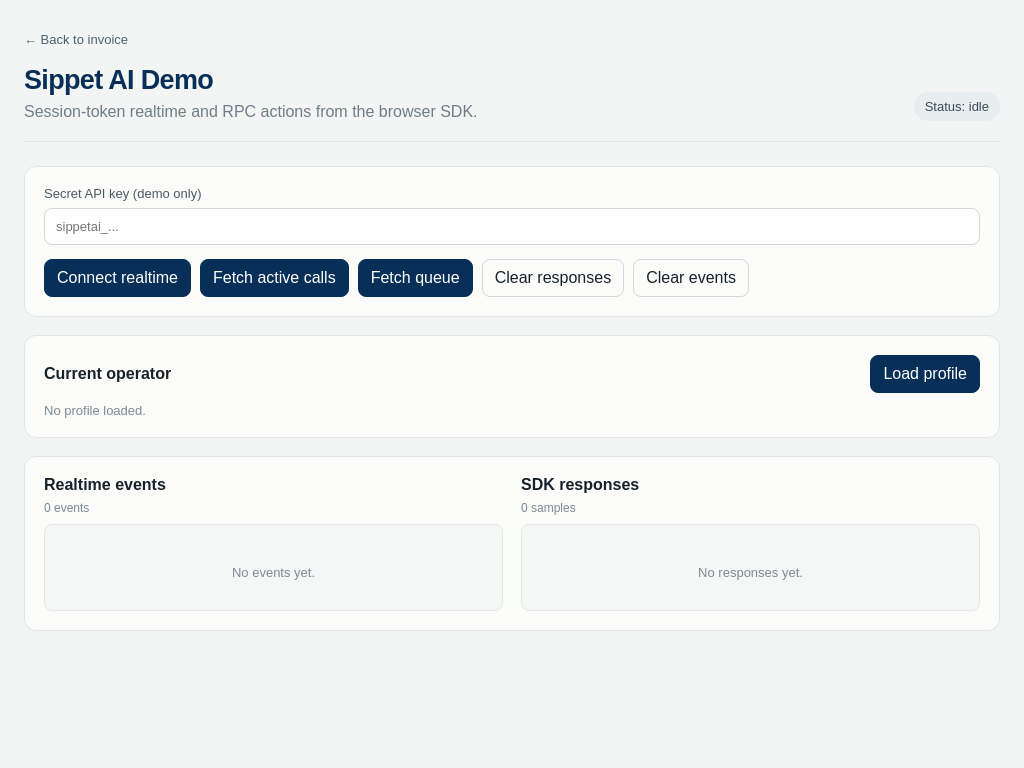
Test case: uses WebSocket auth rather than query parameters for realtime tokens
In the password field labelled "Secret API key (demo only)": (512, 226) 44,208 -> 980,245, type " demo-api-key "
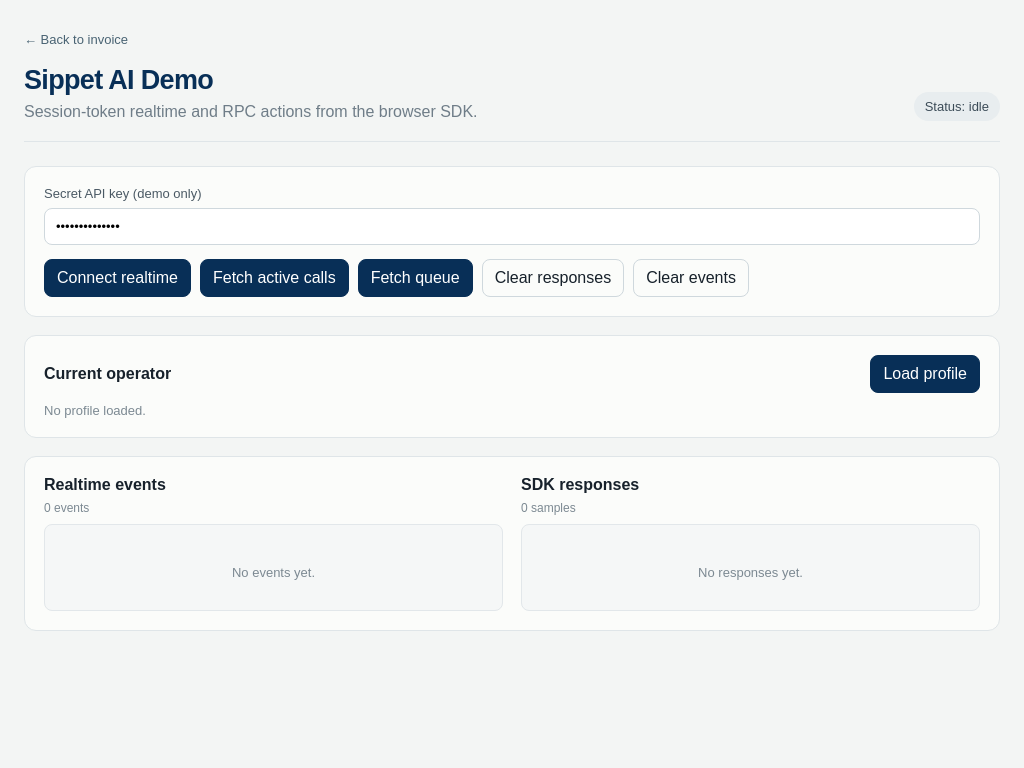
Click the button "Connect realtime": (118, 278) 44,259 -> 191,297
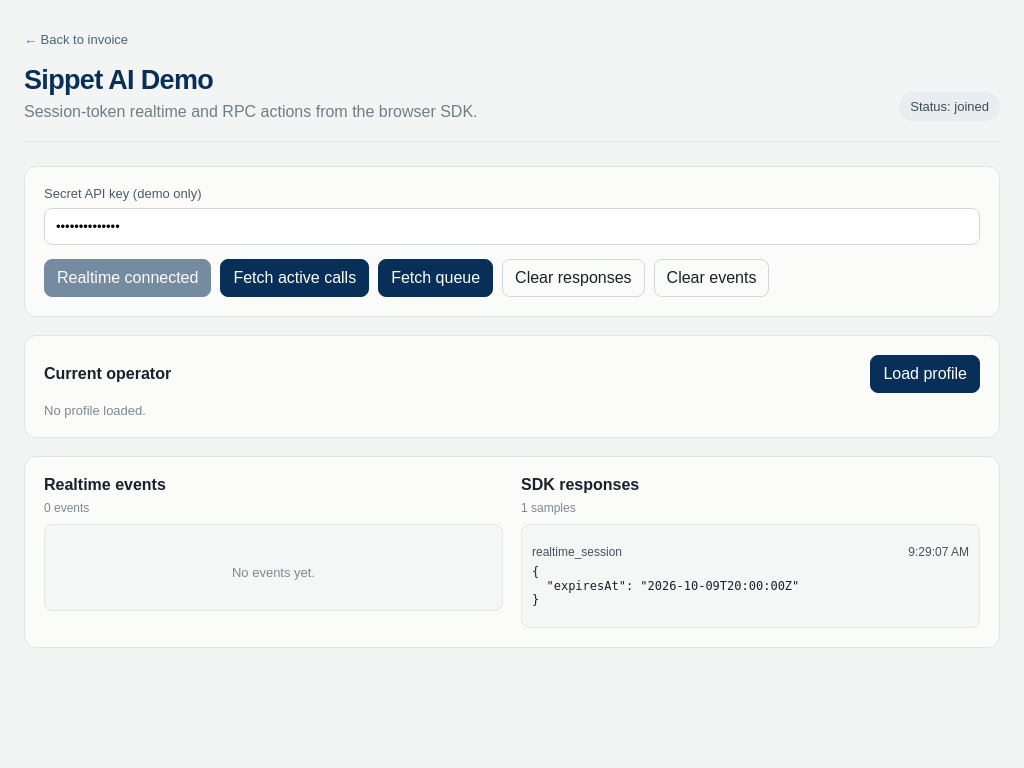
Now the button "Realtime connected" is disabled, box 44,259 -> 211,297
